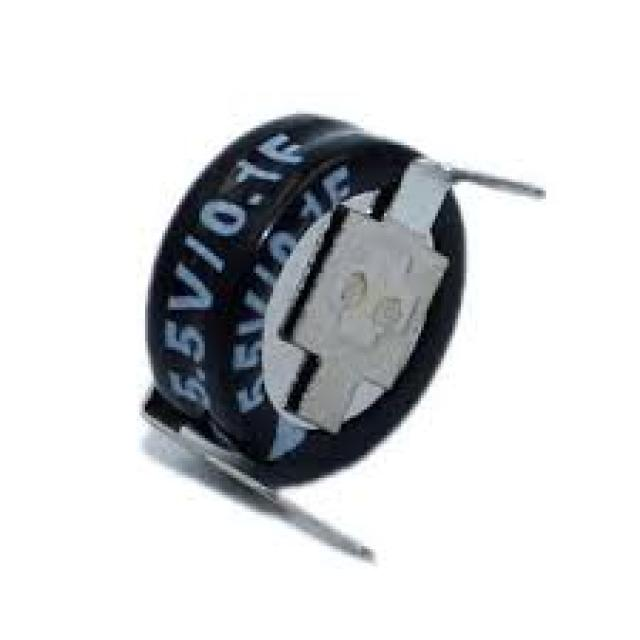Resistor: (145, 114, 543, 489)
